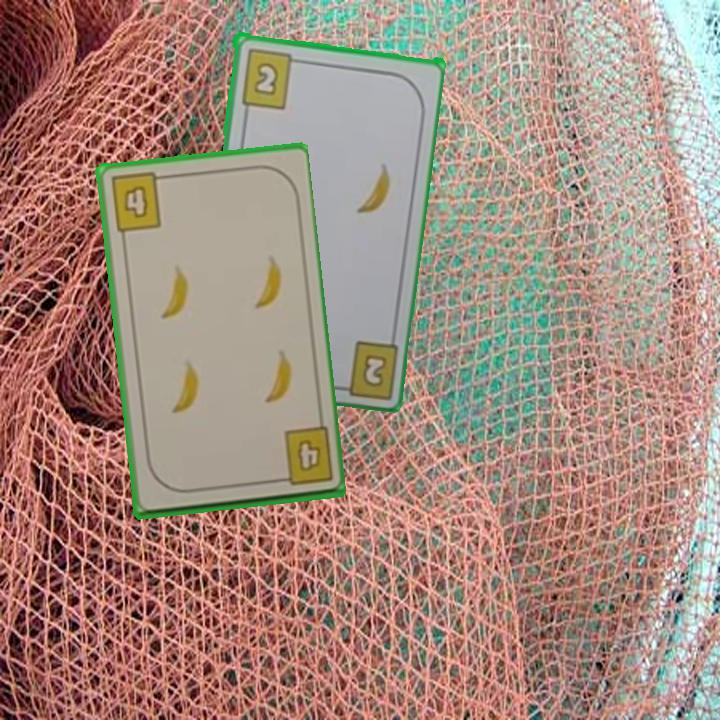2b: (237, 44, 304, 111), (359, 349, 389, 387)
4b: (270, 424, 336, 489), (107, 169, 169, 235)
